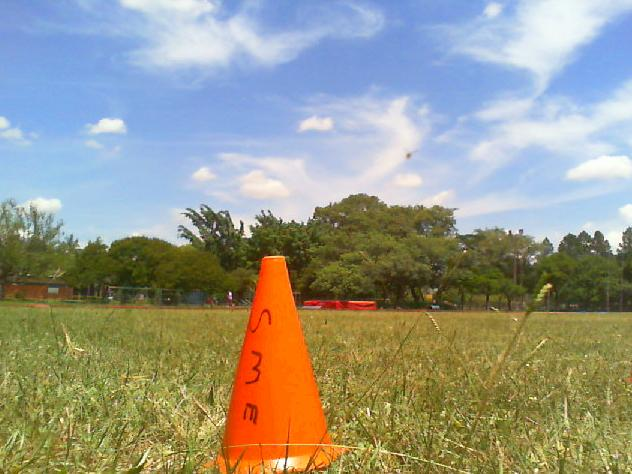0 cone: (203, 257, 349, 474)
